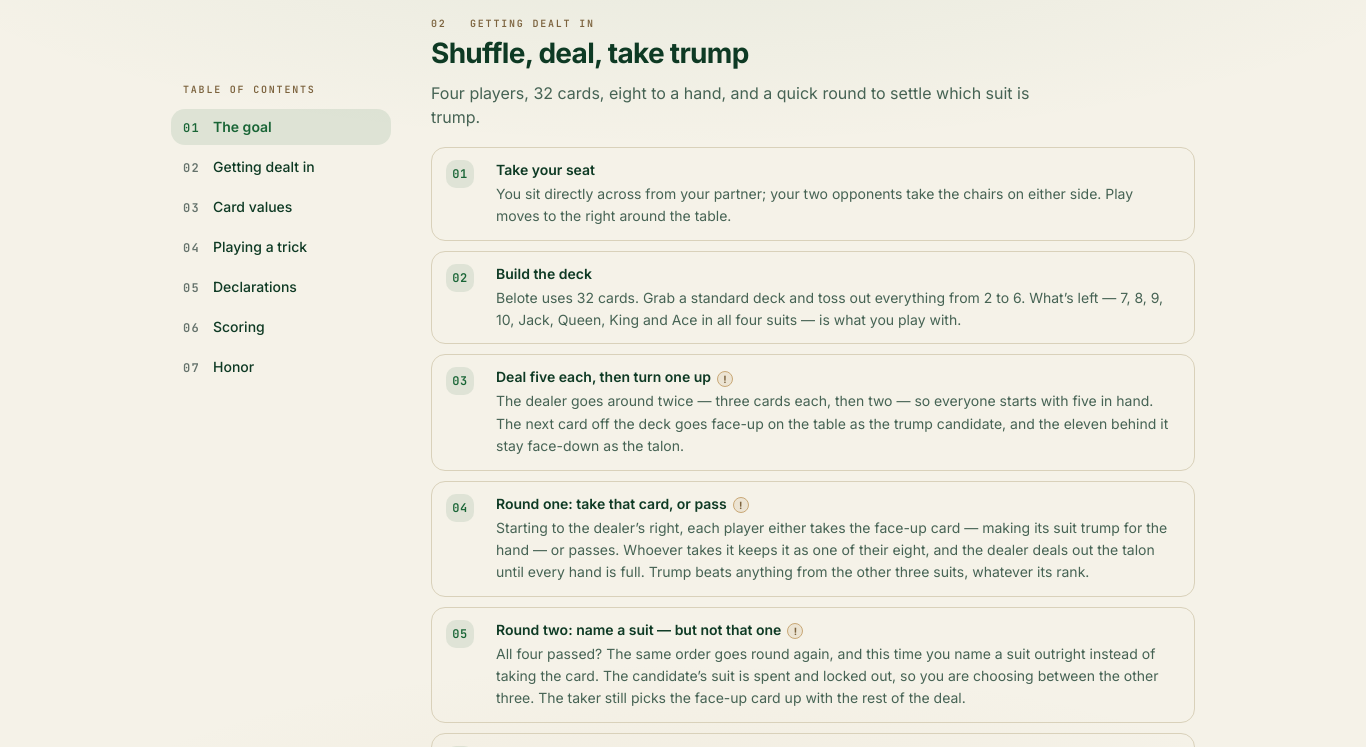
Test: RulesPage › marks each divergent step individually, explaining that step's counterpart
The width and height of the screenshot is (1366, 747).
(page scrolled)
Hover over the button with test id "rules-diff-marker" at point(725, 378), box x1=717 y1=370 x2=733 y2=386
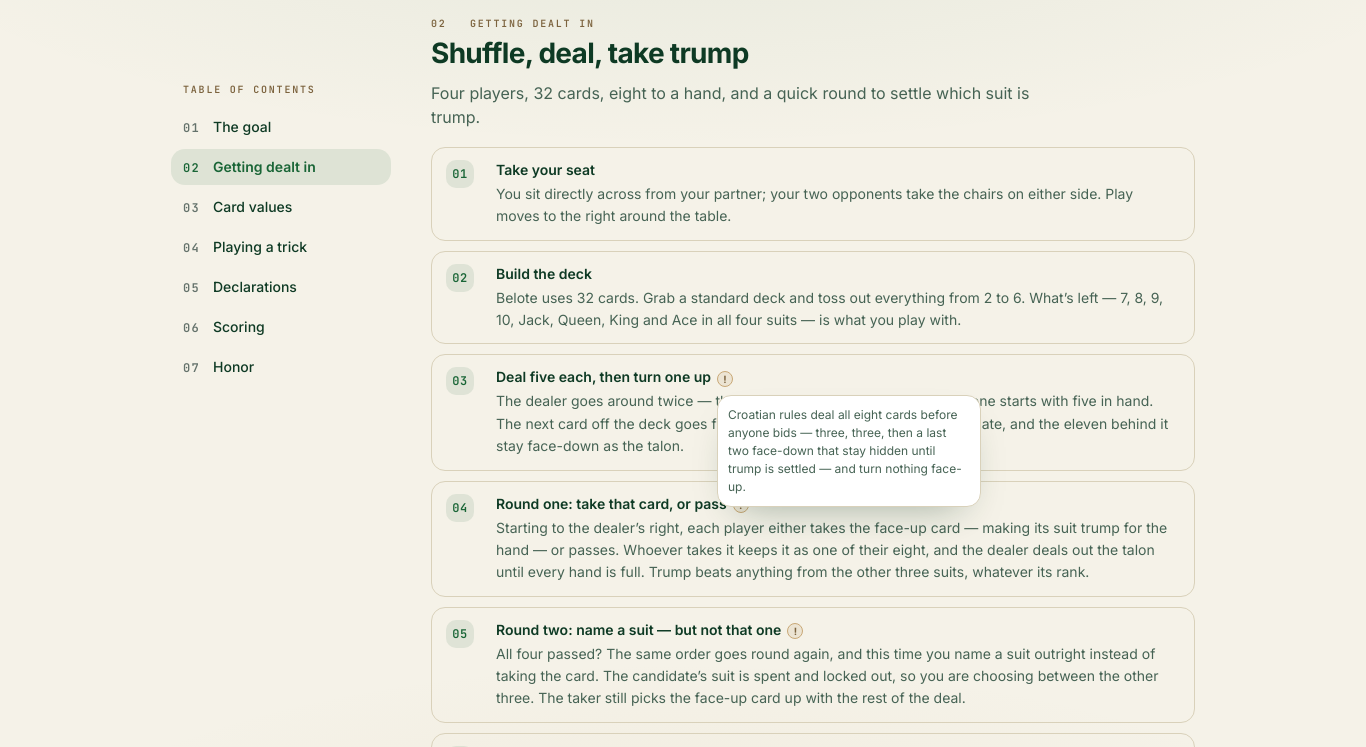
Now the text "Croatian rules deal all eight cards before anyone bids" is shown, box x1=728 y1=407 x2=962 y2=494
Move the pointer off the button with test id "rules-diff-marker", box x1=717 y1=370 x2=733 y2=386
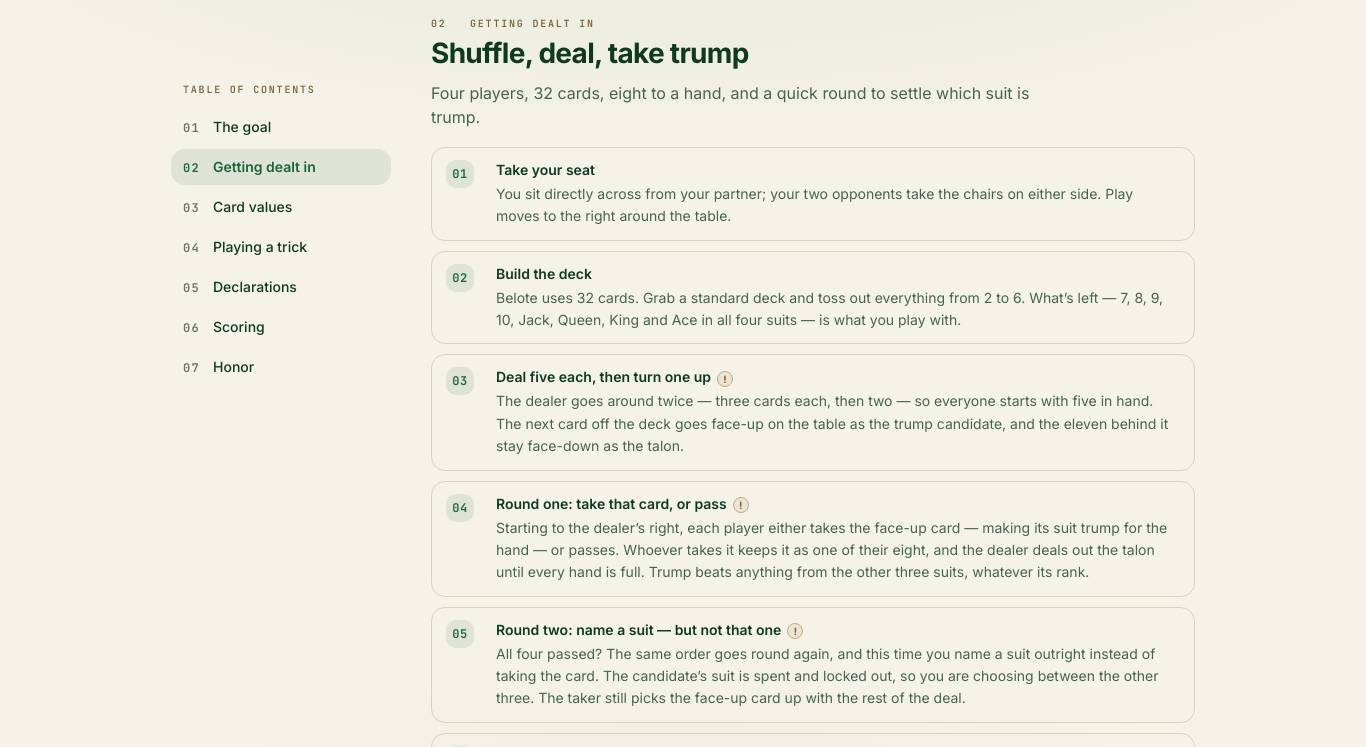
Hover over the button with test id "rules-diff-marker" at point(741, 505), box x1=733 y1=497 x2=749 y2=513
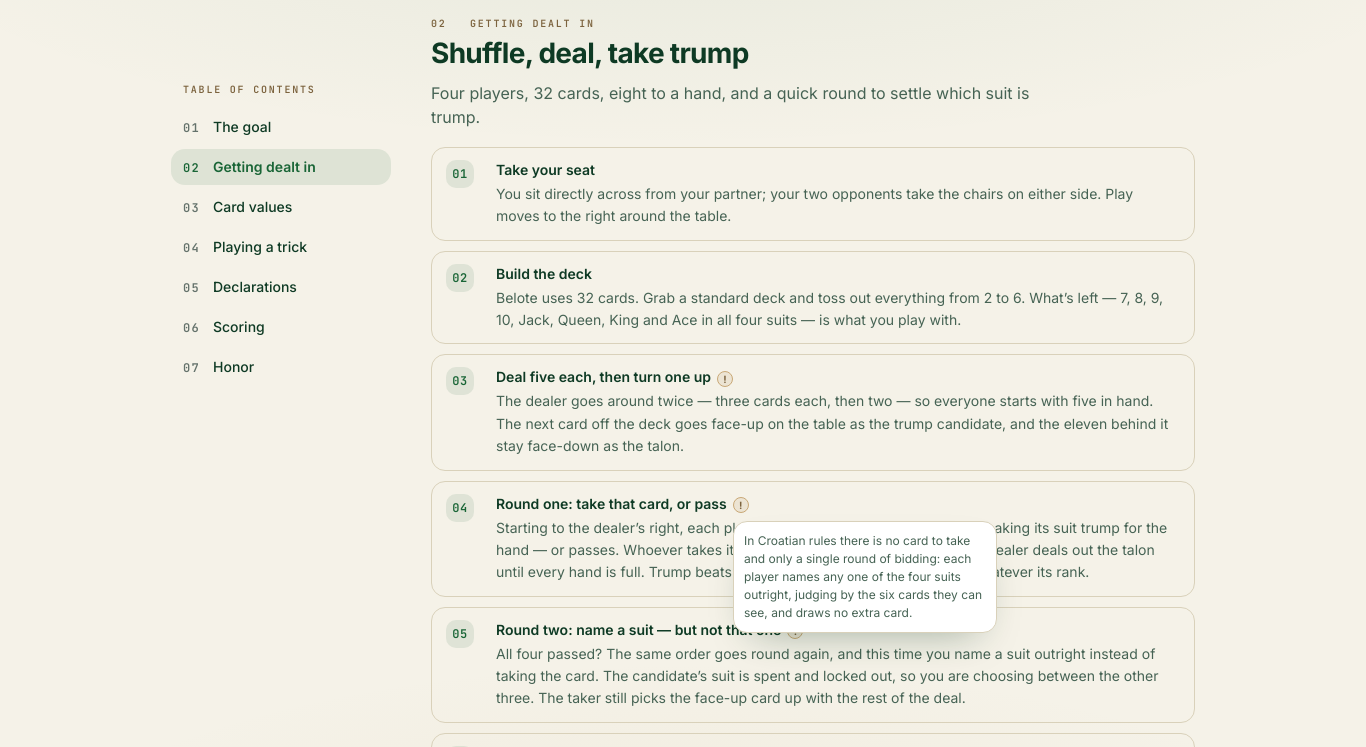
Now the text "In Croatian rules there is no card to take" is shown, box x1=744 y1=533 x2=982 y2=620
Move the pointer off the button with test id "rules-diff-marker", box x1=733 y1=497 x2=749 y2=513
(page scrolled)
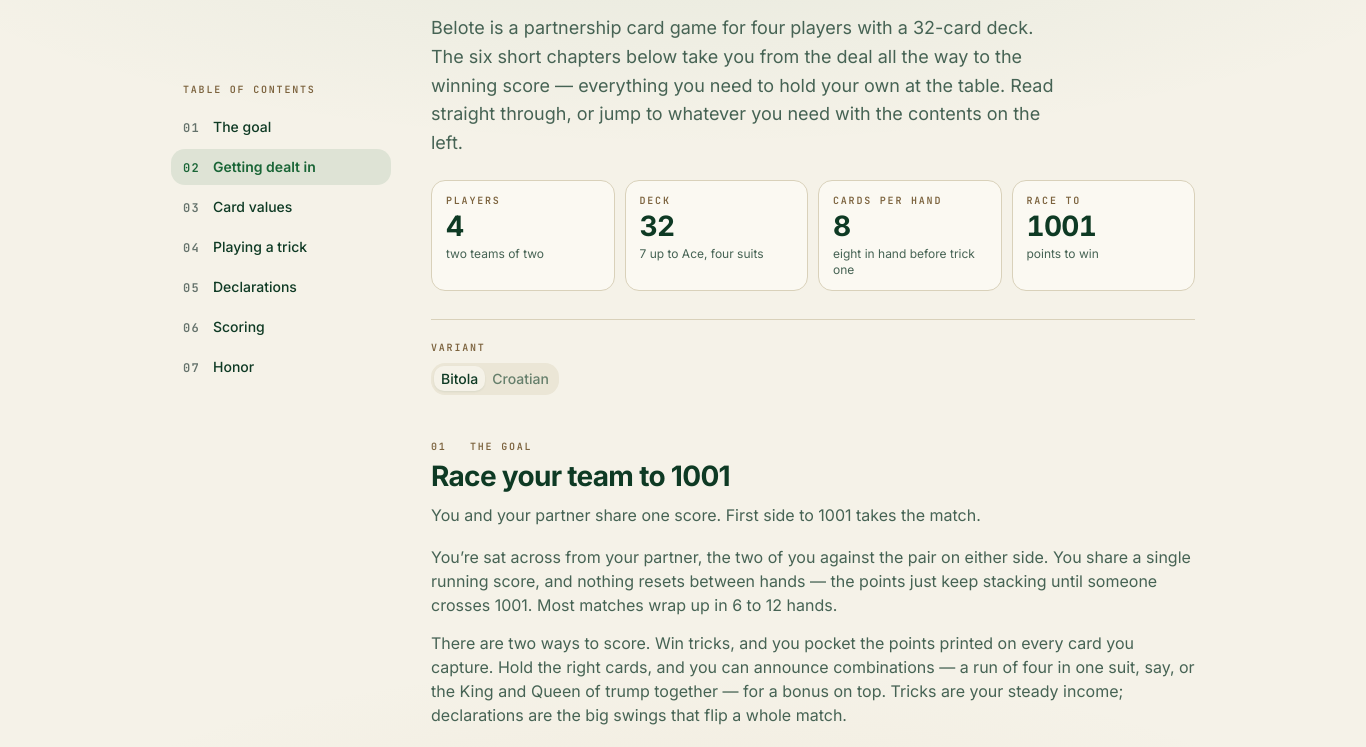
Click the tab with test id "rules-variant-croatia" at point(521, 379), box x1=485 y1=366 x2=556 y2=391
(page scrolled)
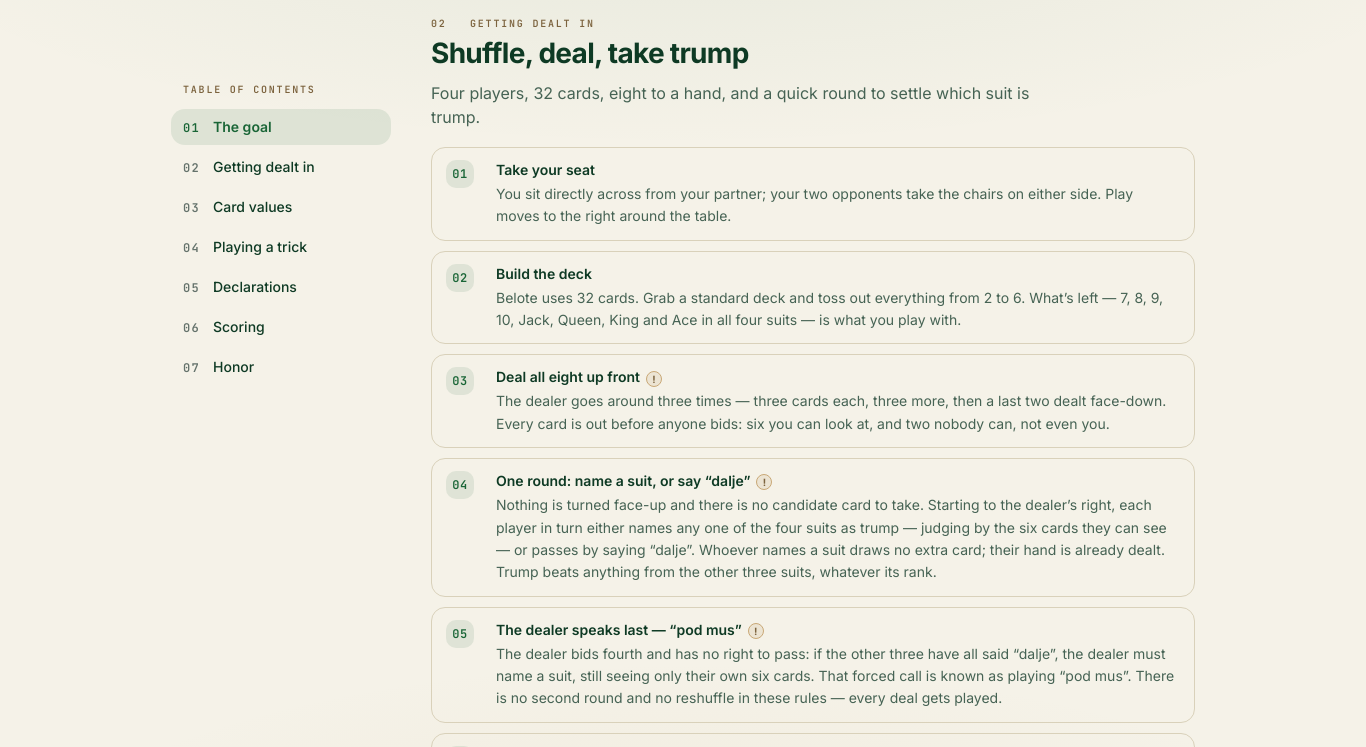
Hover over the button with test id "rules-diff-marker" at point(654, 378), box x1=646 y1=370 x2=662 y2=386
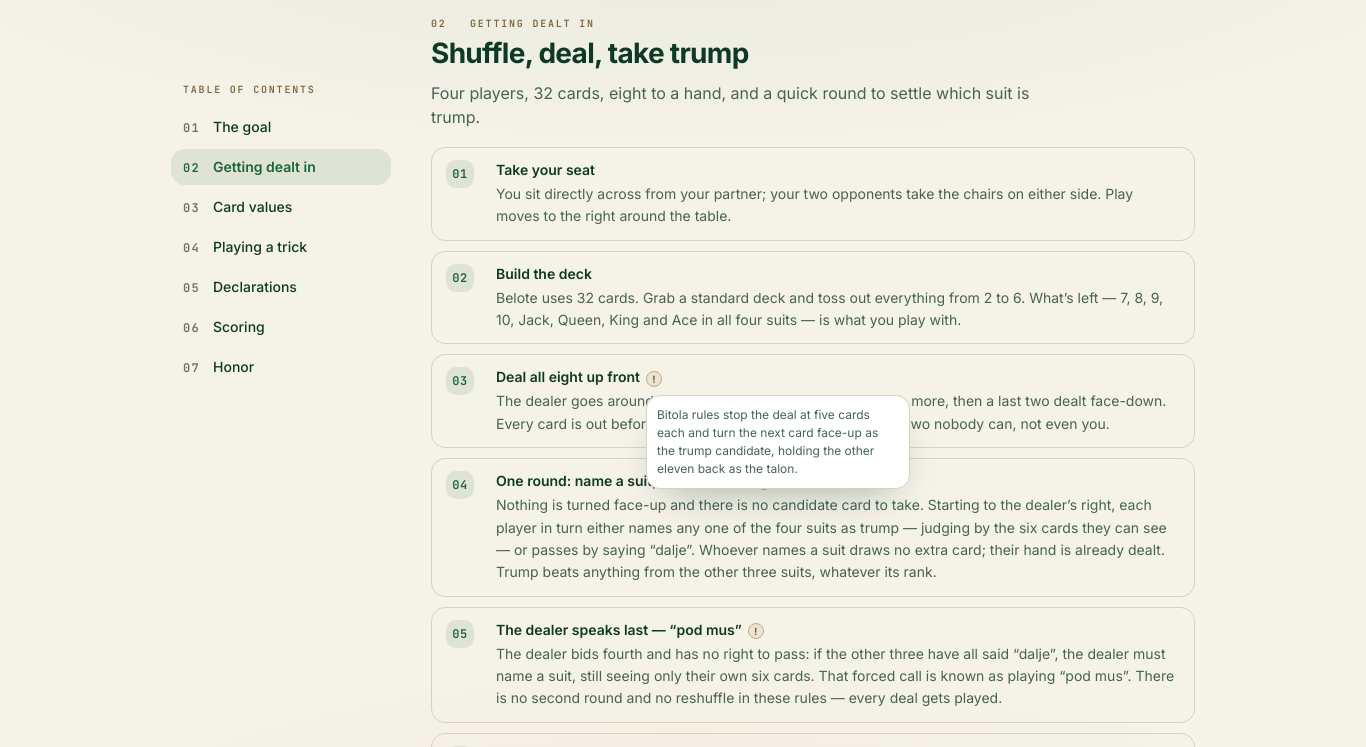
Now the text "Bitola rules stop the deal at five cards each" is shown, box x1=657 y1=407 x2=878 y2=476
